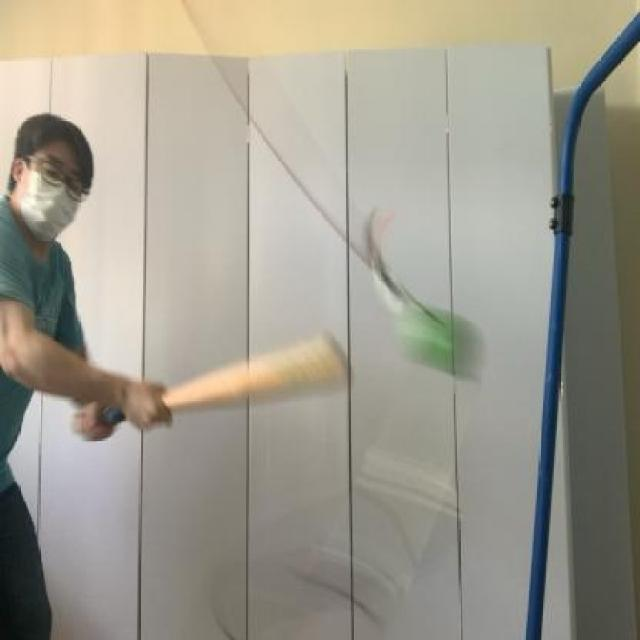baseball: (389, 299, 493, 390)
